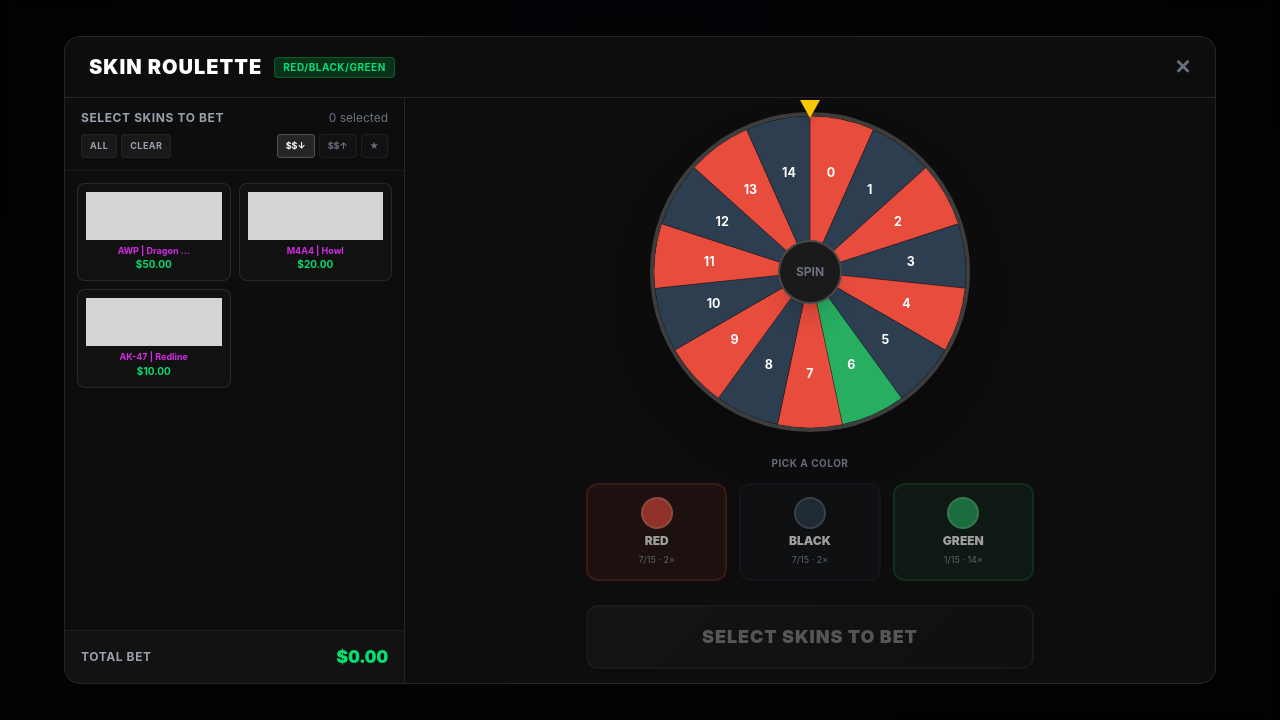
Test case: SkinRoulette › updates selected count after selecting a skin
Click the button "AK-47 | Redline $10.00" at (154, 338), box [77, 289, 230, 388]
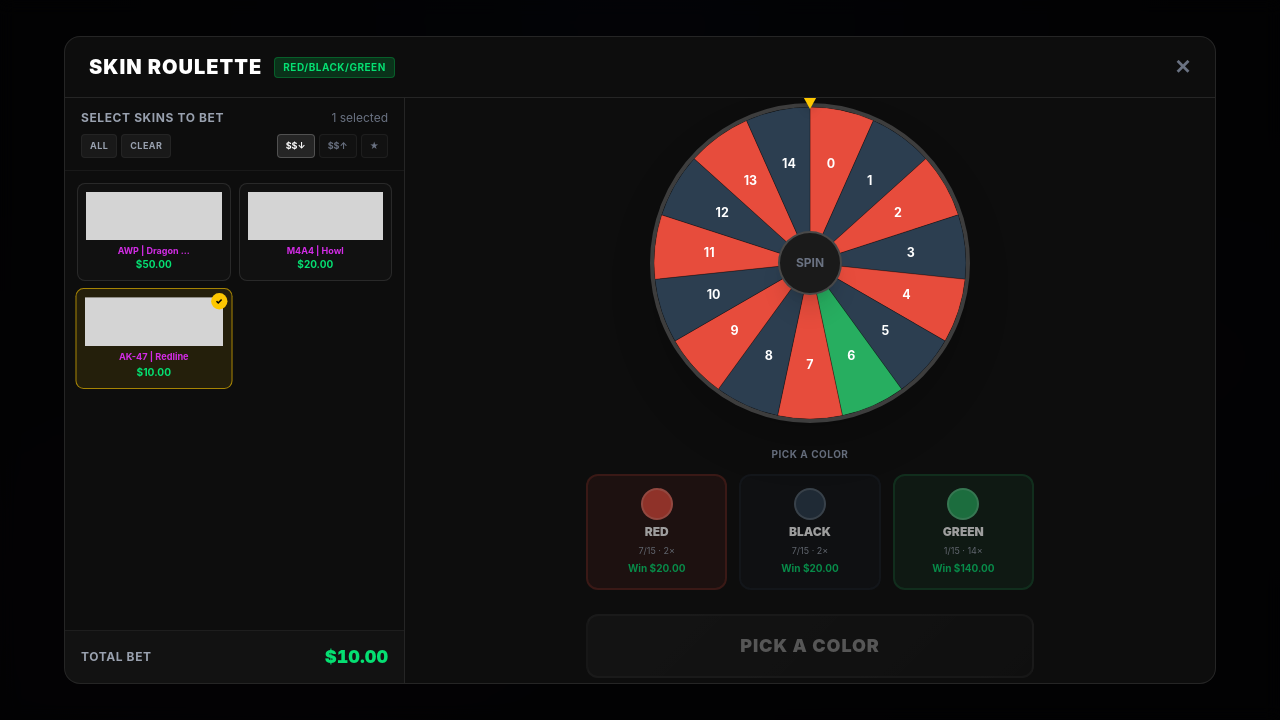
Expected: the text "1 selected" is shown, [332, 110, 388, 126]
